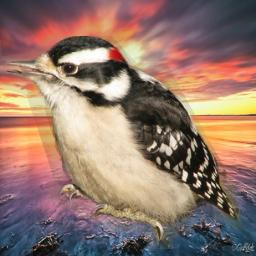Woodpecker: (0, 36, 242, 249)
